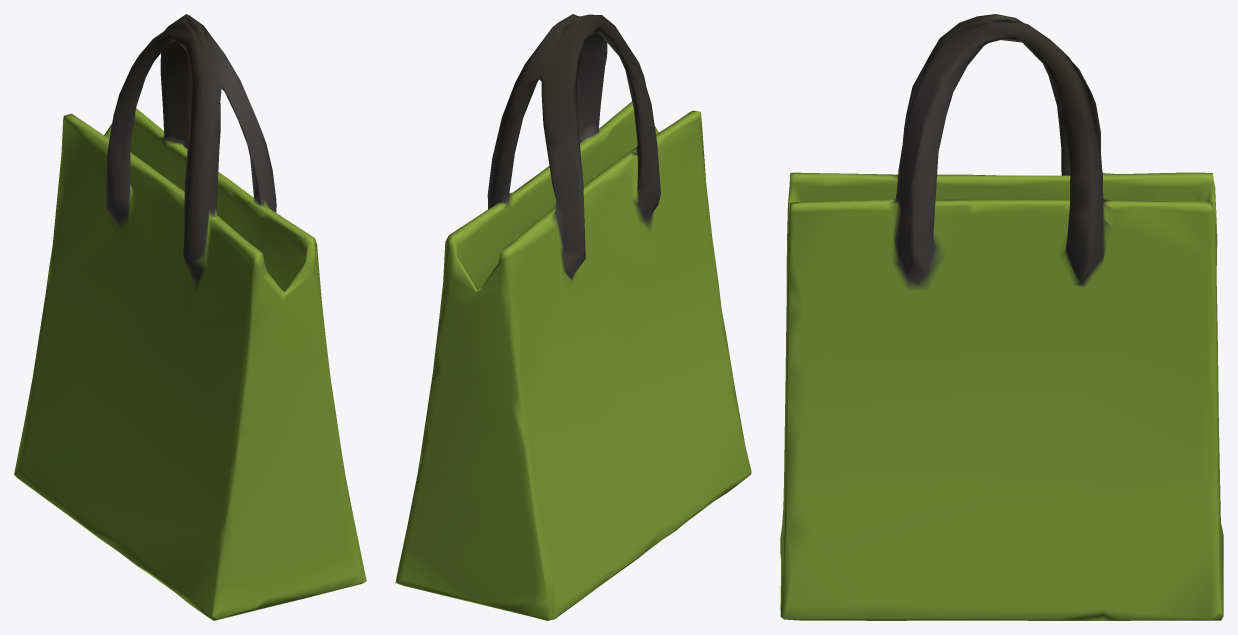
The model's file is gen3d-shopping-bag-lod0.glb.
3 views of the same model, side by side, from view 1: azimuth 30°, elevation 25°; view 2: azimuth 150°, elevation 25°; view 3: azimuth 270°, elevation 25° (orthographic). The views are drawn at different scales.
Parts seen in each view (by area): view 1: part_0; view 2: part_0; view 3: part_0.
Boxes of the visible parts, x1=… form: part_0: x1=14, y1=14, x2=366, y2=620; part_0: x1=395, y1=14, x2=751, y2=620; part_0: x1=780, y1=14, x2=1223, y2=620.
Size of the model in its own units: 0.3236 by 0.9991 by 0.7112.
